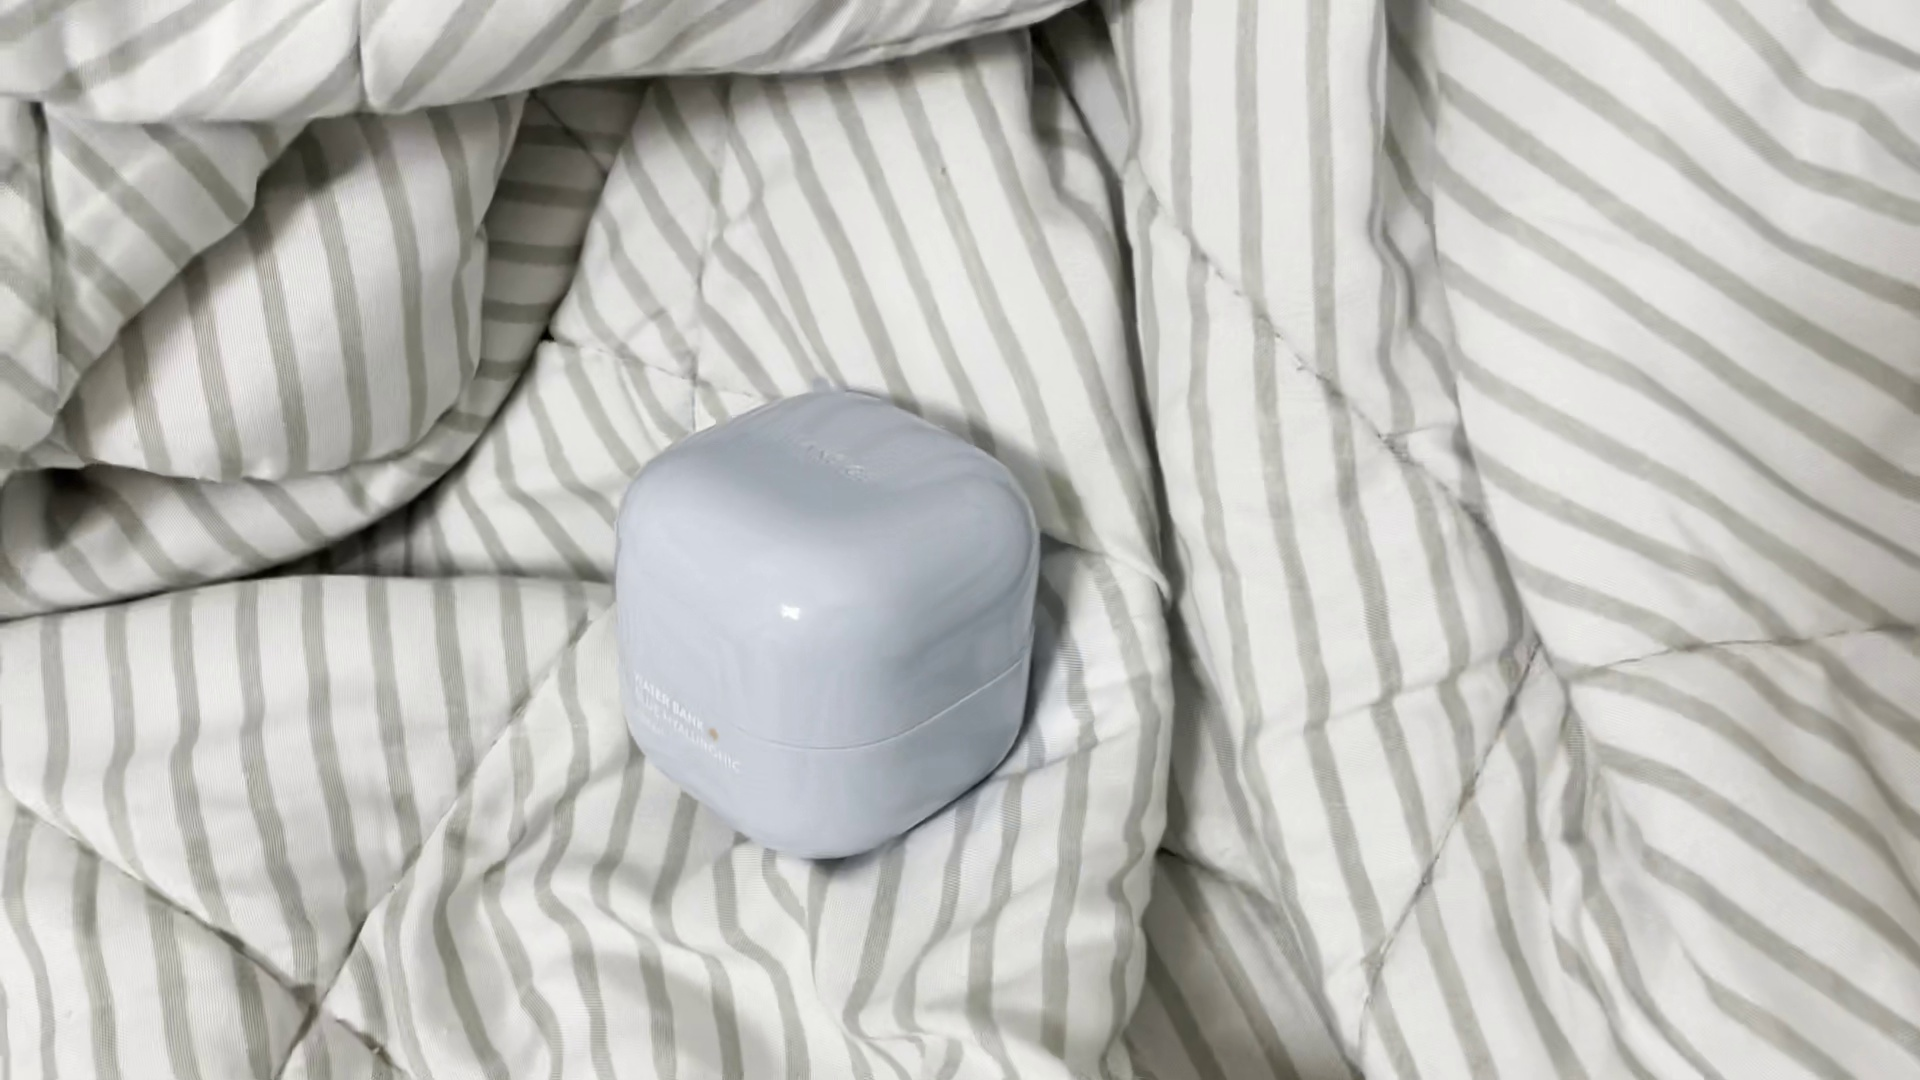cream: (611, 386, 1042, 864)
